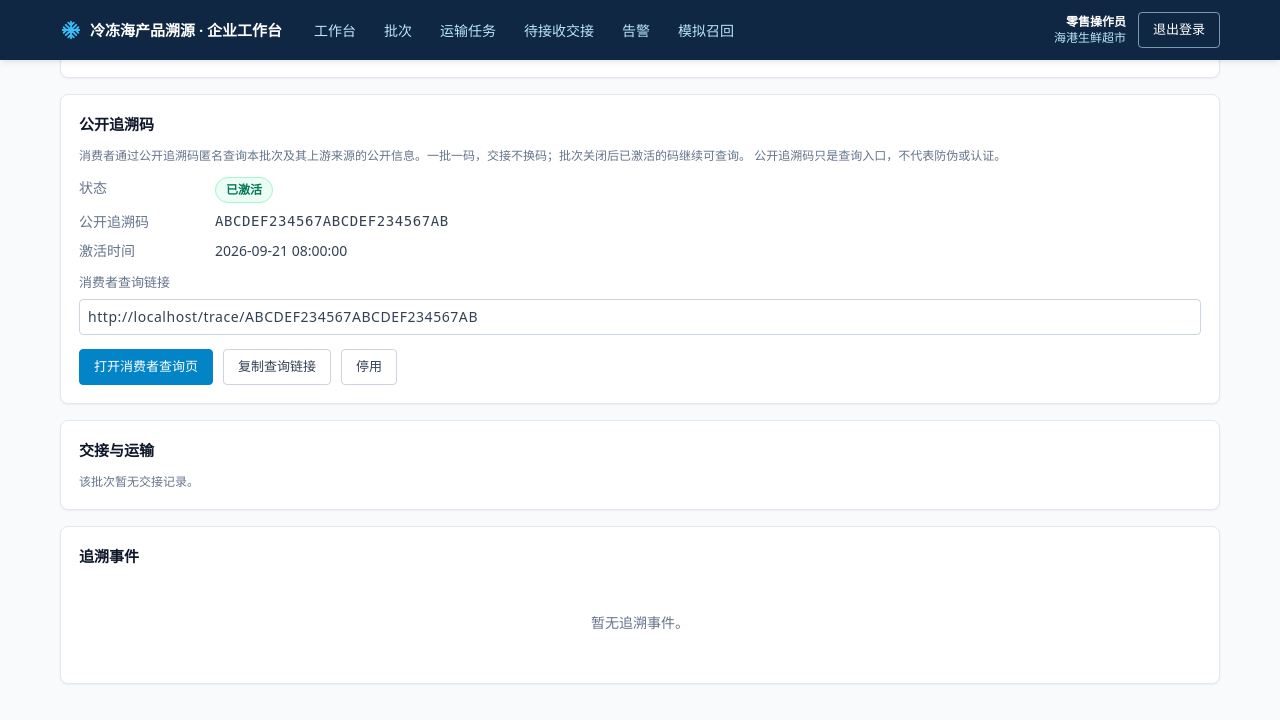
it: PublicTraceCode panel › keeps an already ACTIVE code queryable after the batch is CLOSED: code, consumer link and copy are shown, no activation
(page scrolled)
Expected: the text with test id "public-code-value" reads "ABCDEF234567ABCDEF234567AB", [215,213,449,229]
Expected: the link with test id "public-code-link" is shown, [79,348,213,384]
Click the button with test id "public-code-copy" at (277,366), box [223,348,331,384]
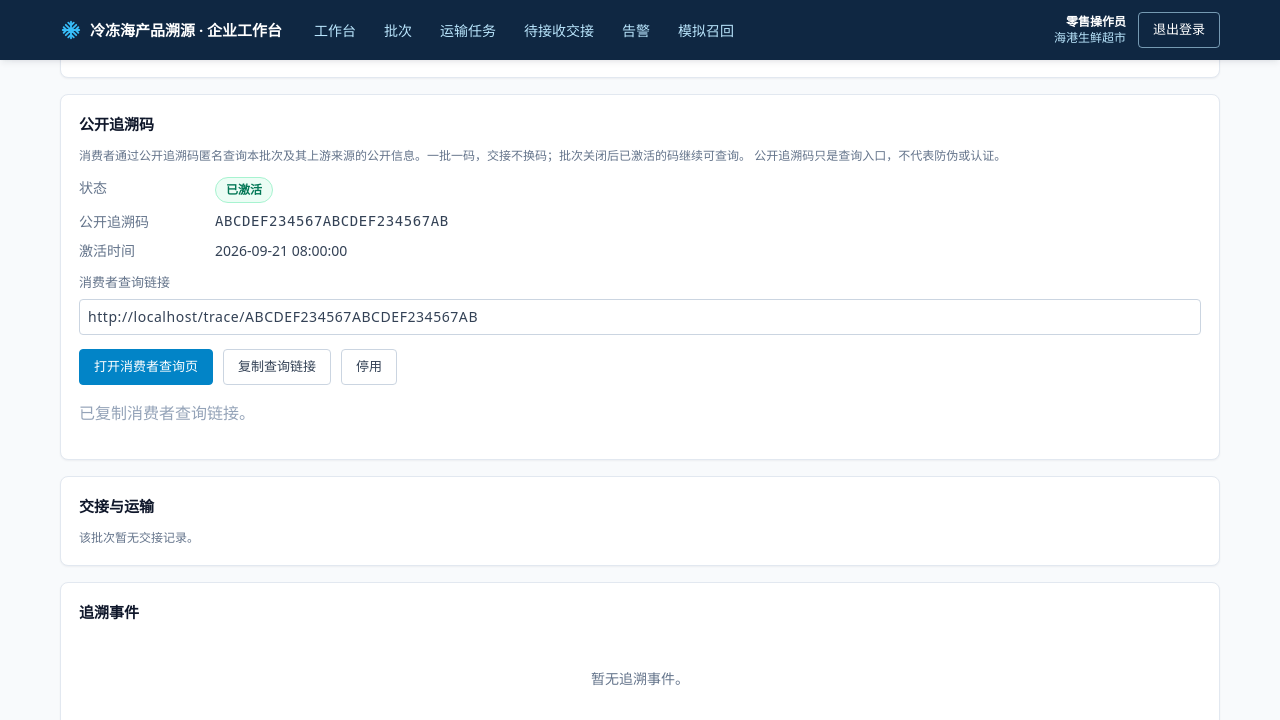
Expected: the message with test id "public-code-copy-message" shows "已复制", [79,402,255,424]
